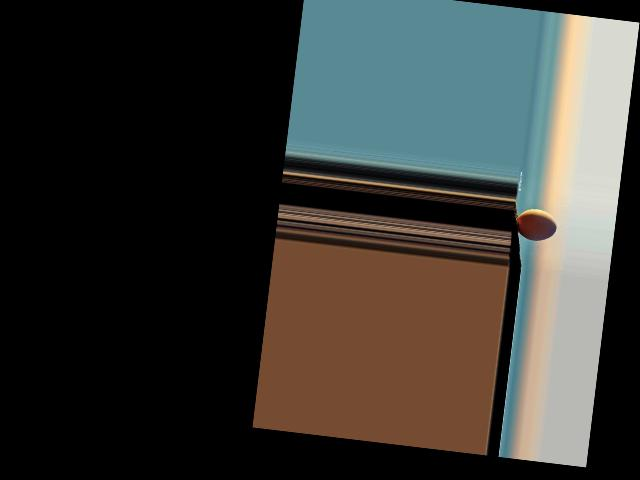egg: (515, 206, 558, 243)
